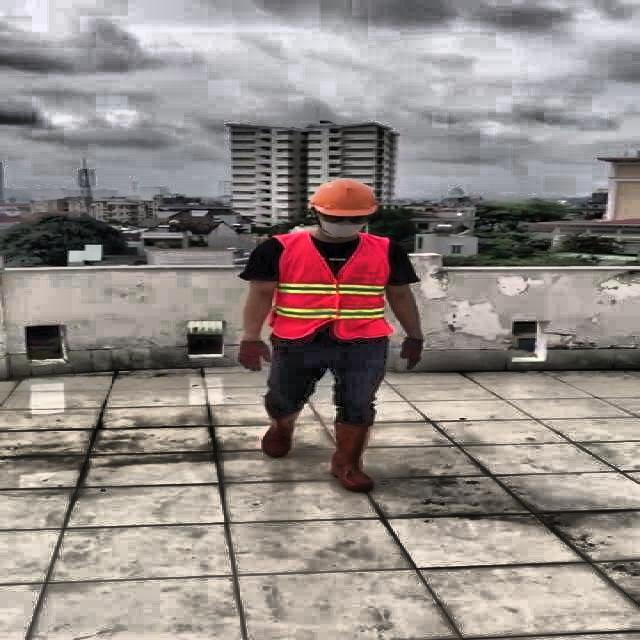safety_helmet: (304, 178, 382, 218)
safety_jacket: (270, 232, 391, 339)
